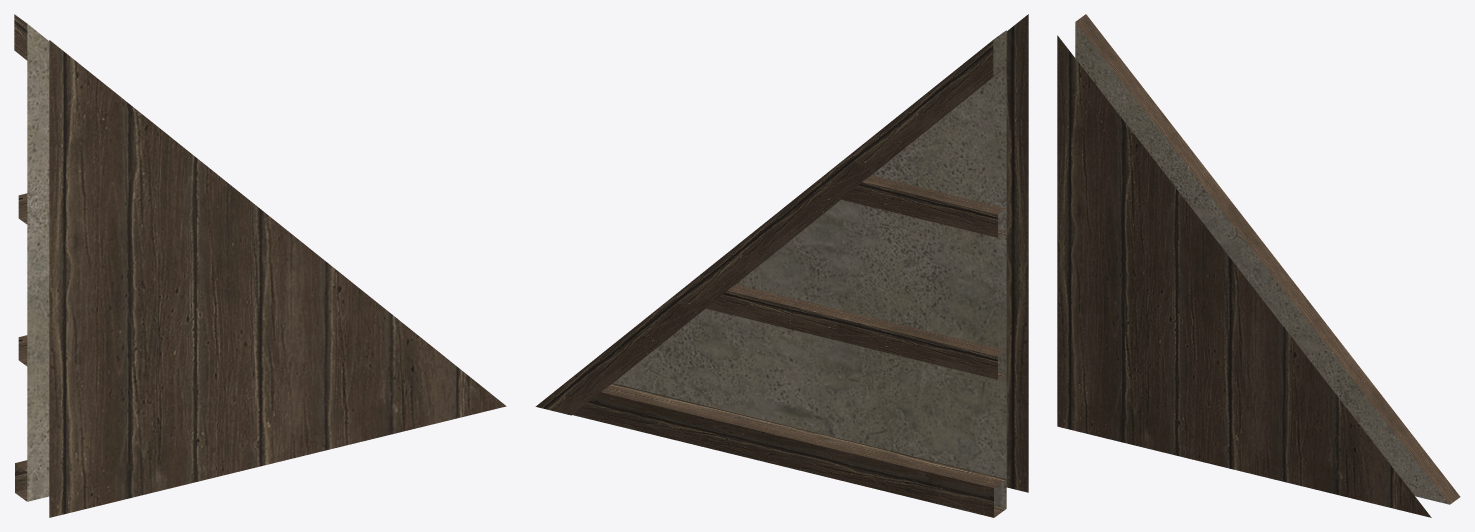
File: ARC1010262.fbx
3 renders of one model, left to right at view 1: azimuth 30°, elevation 25°; view 2: azimuth 150°, elevation 25°; view 3: azimuth 330°, elevation 25°, orthographic. The views are drawn at different scales.
Visible parts, largest first — view 1: smARC1010262; view 2: smARC1010262; view 3: smARC1010262.
Part boxes in pixels (x1,y1,x2,y2): smARC1010262: (14, 14, 506, 517); smARC1010262: (535, 14, 1028, 517); smARC1010262: (1057, 14, 1460, 517).
Size of the model in its own units: 268 by 268 by 35.62.
Materials: 1 (1 with a texture image).
